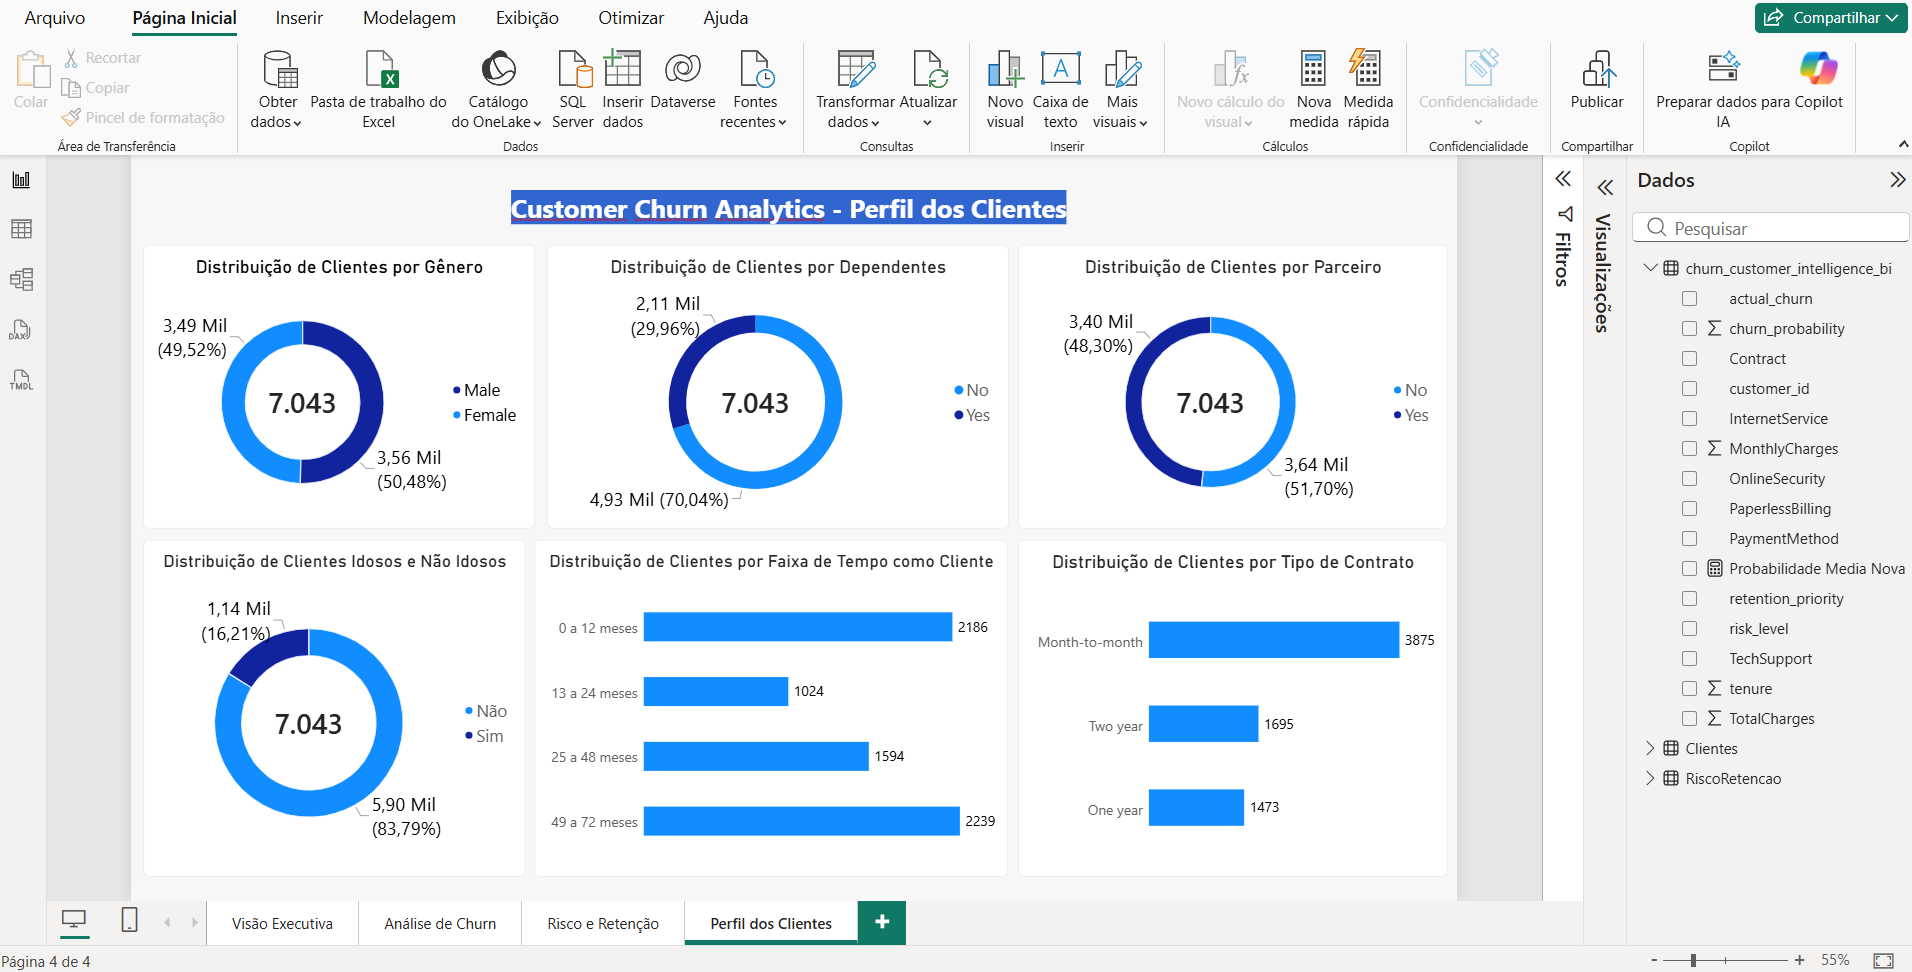

The page's visual inventory and layout, read from the dashboard file:
{"tool":"powerbi","page":{"name":"Perfil dos Clientes","canvas":[1920,1080],"ordinal":3},"visuals":[{"type":"donutChart","title":"Distribuição de Clientes por Gênero","fields":{"Category":["Clientes.gender"],"Y":["CountNonNull(Clientes.customerID)"]},"box":[18.8,129.8,566.1,410],"z":0},{"type":"donutChart","title":"Distribuição de Clientes por Dependentes","fields":{"Category":["Clientes.Dependents"],"Y":["CountNonNull(Clientes.customerID)"]},"box":[601.9,129.8,667.7,410],"z":1000},{"type":"donutChart","title":"Distribuição de Clientes por Parceiro","fields":{"Category":["Clientes.Partner"],"Y":["CountNonNull(Clientes.customerID)"]},"box":[1284.6,129.8,620.7,410],"z":2000},{"type":"donutChart","title":"Distribuição de Clientes Idosos e Não Idosos","fields":{"Category":["Clientes.Senior Citizen Texto"],"Y":["CountNonNull(Clientes.customerID)"]},"box":[18.8,556.7,553,487.1],"z":3000},{"type":"clusteredBarChart","title":"Distribuição de Clientes por Faixa de Tempo como Cliente","fields":{"Category":["Clientes.Faixa Tenure"],"Y":["CountNonNull(Clientes.customerID)"]},"box":[585,556.7,684.6,487.1],"z":3001},{"type":"clusteredBarChart","title":"Distribuição de Clientes por Tipo de Contrato","fields":{"Category":["Clientes.Contract"],"Y":["CountNonNull(Clientes.customerID)"]},"box":[1284.6,556.7,620.7,487.1],"z":3002},{"type":"textbox","box":[537.9,50.8,829.5,58.3],"z":3003}]}

Visuals, with their boxes on the page's 1920x1080 design canvas (x1, y1, x2, y2). These are canvas units, not pixel positions in the 1912x972 screenshot, which may show the page scaled, cropped or inside an application window:
"Distribuição de Clientes por Gênero" donutChart: (left=19, top=130, right=585, bottom=540)
"Distribuição de Clientes por Dependentes" donutChart: (left=602, top=130, right=1270, bottom=540)
"Distribuição de Clientes por Parceiro" donutChart: (left=1285, top=130, right=1905, bottom=540)
"Distribuição de Clientes Idosos e Não Idosos" donutChart: (left=19, top=557, right=572, bottom=1044)
"Distribuição de Clientes por Faixa de Tempo como Cliente" clusteredBarChart: (left=585, top=557, right=1270, bottom=1044)
"Distribuição de Clientes por Tipo de Contrato" clusteredBarChart: (left=1285, top=557, right=1905, bottom=1044)
textbox: (left=538, top=51, right=1367, bottom=109)
